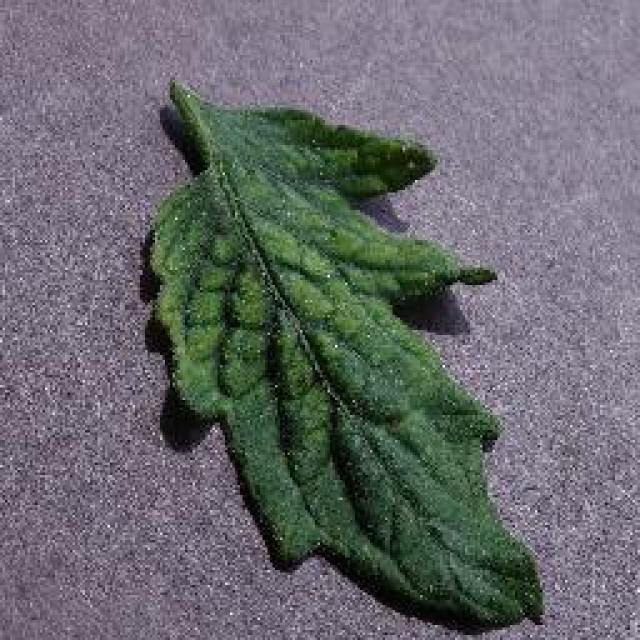Tomato spider mites leaf: (146, 78, 552, 628)
